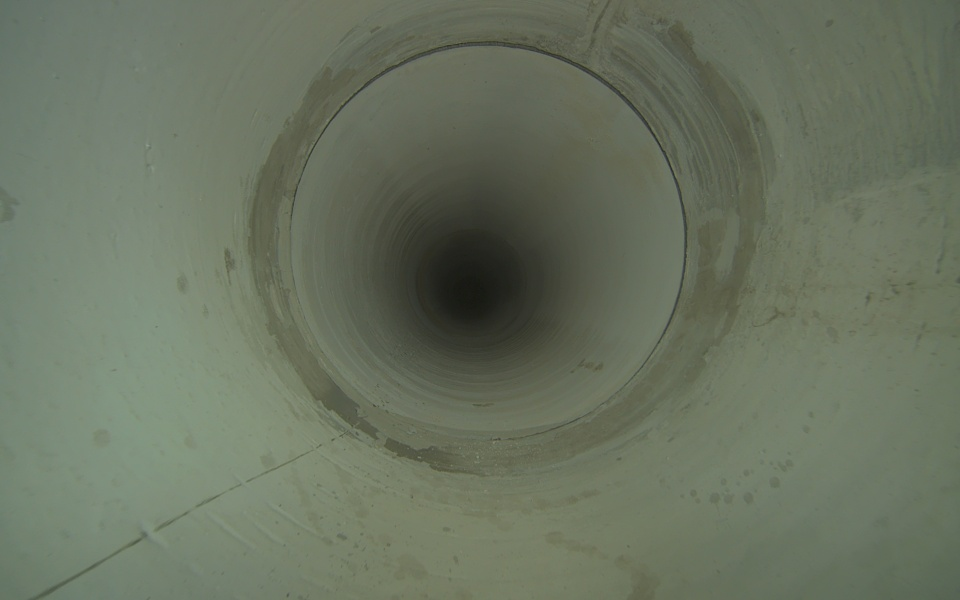circle1: (286, 38, 688, 446)
circle2: (452, 276, 487, 312)
